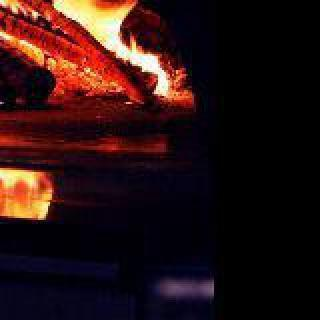fire: (0, 0, 190, 92), (0, 152, 52, 218)
